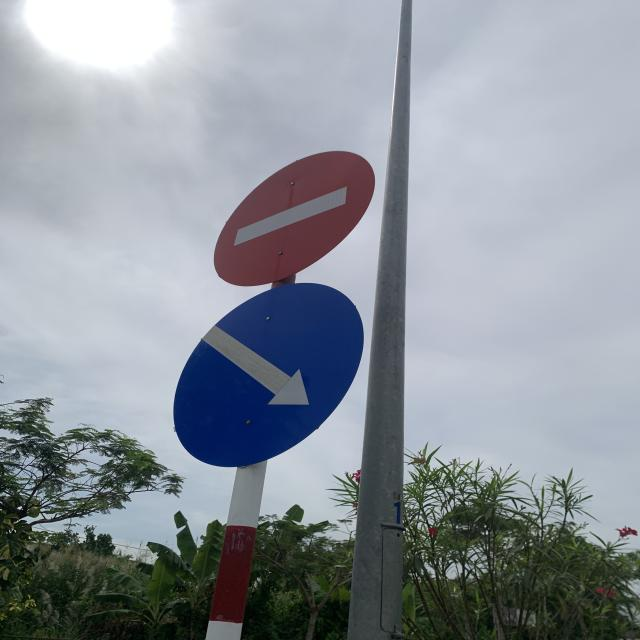Cam_Di_Nguoc_Chieu: (212, 148, 374, 284)
Chi_Huong_Di_Phai: (171, 285, 364, 467)
